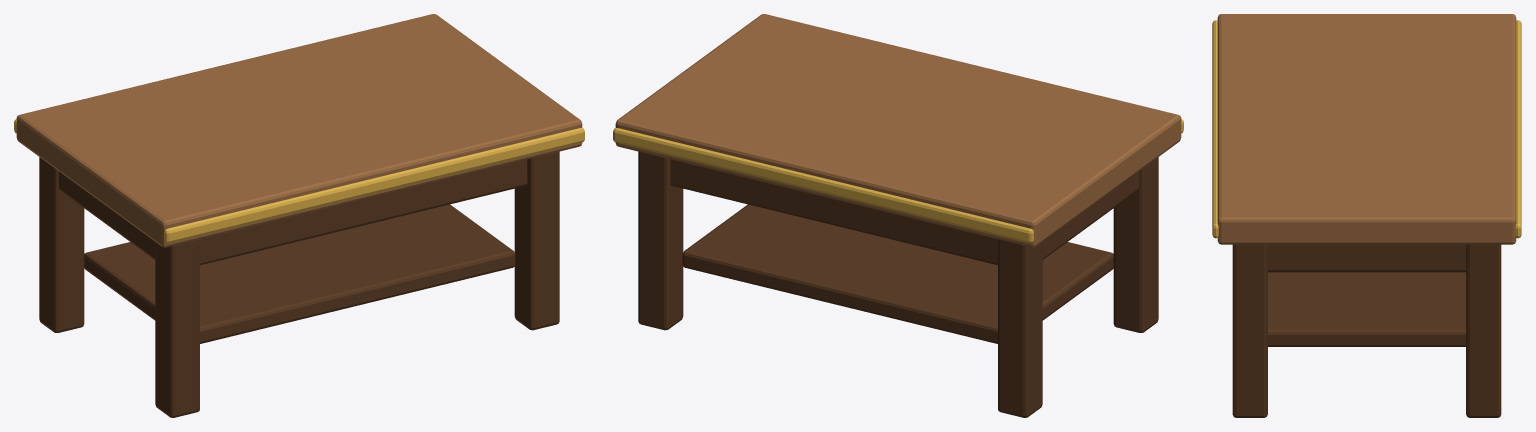
The model's file is hall-side-table.glb.
The picture shows the model from 3 angles, left to right: view 1: azimuth 30°, elevation 25°; view 2: azimuth 150°, elevation 25°; view 3: azimuth 270°, elevation 25°; orthographic projection.
Visible parts, largest first — view 1: HallSideTable; view 2: HallSideTable; view 3: HallSideTable.
Part boxes in pixels (left/top/right/bottom): HallSideTable: left=14, top=14, right=584, bottom=417; HallSideTable: left=613, top=14, right=1183, bottom=417; HallSideTable: left=1212, top=14, right=1521, bottom=417.
Bounding box in the file's own units: 0.9 × 0.4225 × 0.57.
